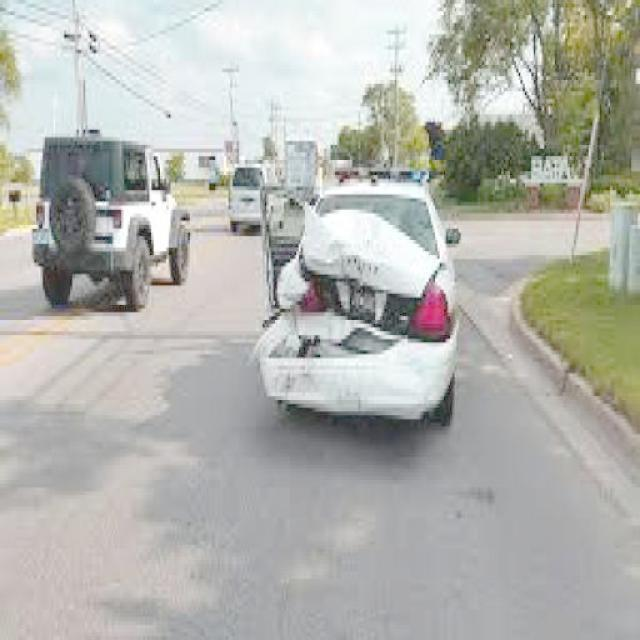car damage: (251, 206, 439, 415)
